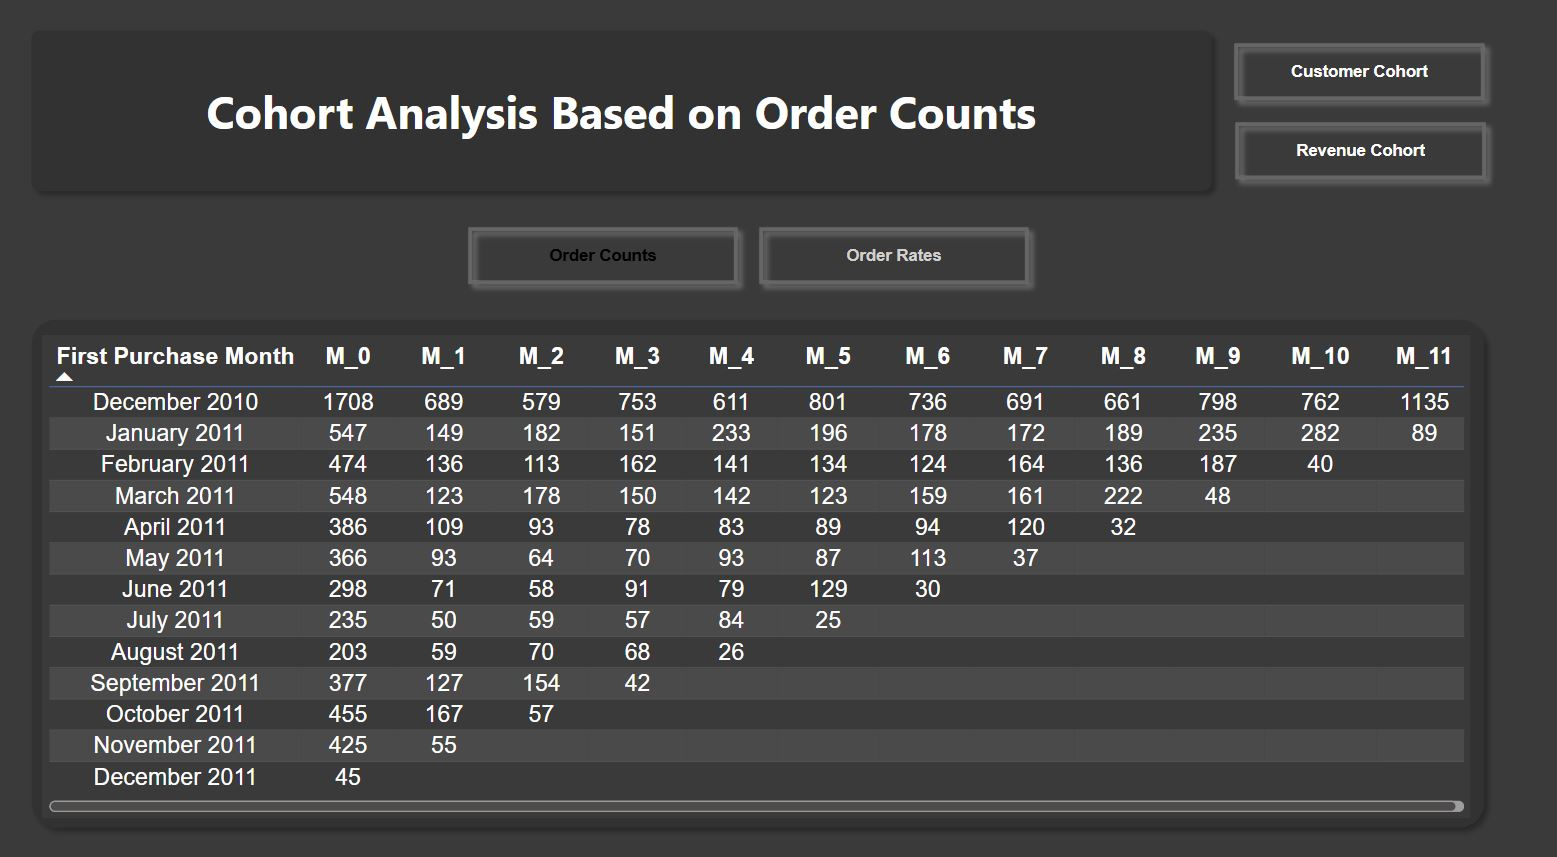

Layout of this report page (visuals, bound fields, positions):
{"tool":"powerbi","page":{"name":"Order Cohort","canvas":[1280,720],"ordinal":0},"visuals":[{"type":"shape","box":[45.7,259.2,1181.6,425.2],"z":0},{"type":"tableEx","fields":{"Values":["retail_cohort order_cohort.FirstPurchaseMonth","_Measures.M_0o","_Measures.M_1o","_Measures.M_2o","_Measures.M_3o","_Measures.M_4o","_Measures.M_5o","_Measures.M_6o","_Measures.M_7o","_Measures.M_8o","_Measures.M_9o","_Measures.M_10o"]},"box":[63.5,281.2,1143.5,387.1],"z":1000},{"type":"shape","box":[45.7,28,963.1,146.5],"z":2000},{"type":"actionButton","box":[395.6,185.5,233.8,63.5],"z":3000},{"type":"actionButton","box":[628.5,185.5,233.8,63.5],"z":4000},{"type":"actionButton","box":[1008.8,38.1,218.5,63.5],"z":5000},{"type":"actionButton","box":[1009.6,101.5,218.7,63.7],"z":6000}]}

Visuals, with their boxes in screenshot pixels (x1, y1, x2, y2), scaled from the page's 1280x720 canvas onto the 1557x857 screenshot:
shape: bbox(56, 309, 1493, 815)
tableEx - retail_cohort order_cohort.FirstPurchaseMonth x _Measures.M_0o: bbox(77, 335, 1468, 795)
shape: bbox(56, 33, 1227, 208)
actionButton: bbox(481, 221, 766, 296)
actionButton: bbox(765, 221, 1049, 296)
actionButton: bbox(1227, 45, 1493, 121)
actionButton: bbox(1228, 121, 1494, 197)
